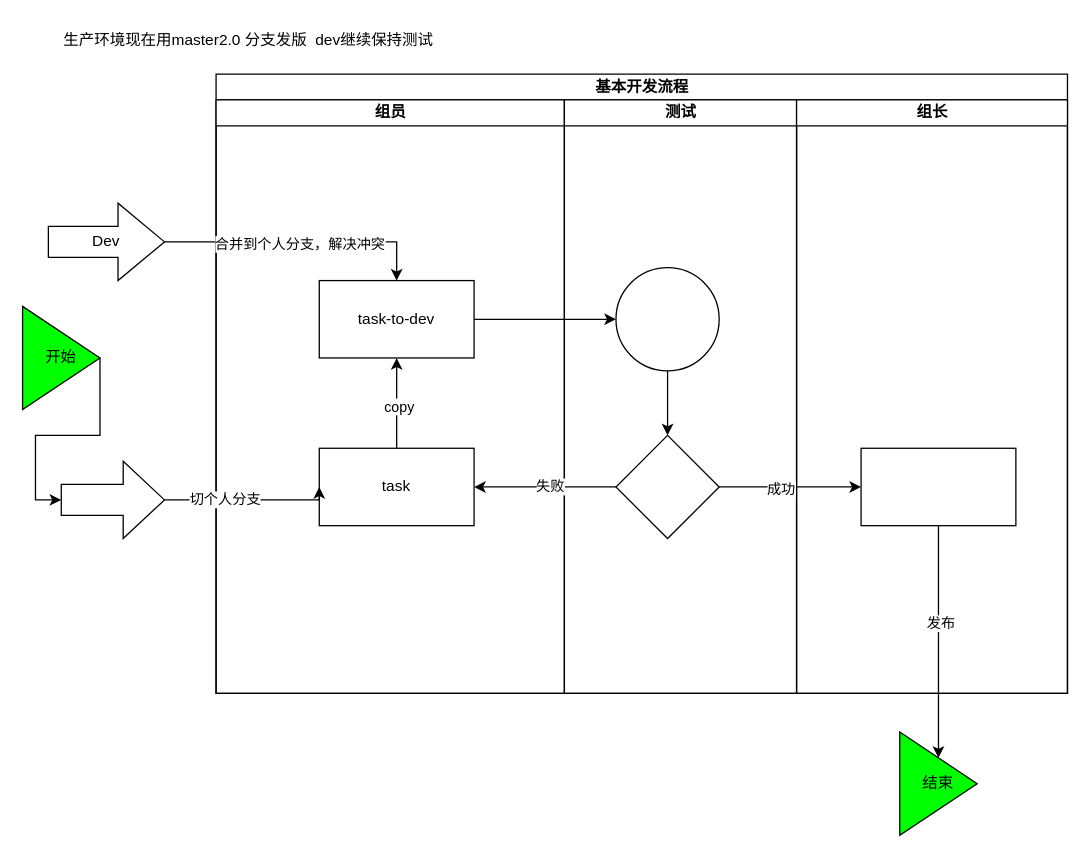
Image size: 1090x858. Some labels were removed from this diagram. The centre of each missing label's shape, as x and y in pixels:
Master: point 112,499
task合并到master: point 938,486
发布测试环境: point 667,318
是否验收通过: point 667,486
